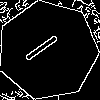I: (23, 25, 69, 64)
